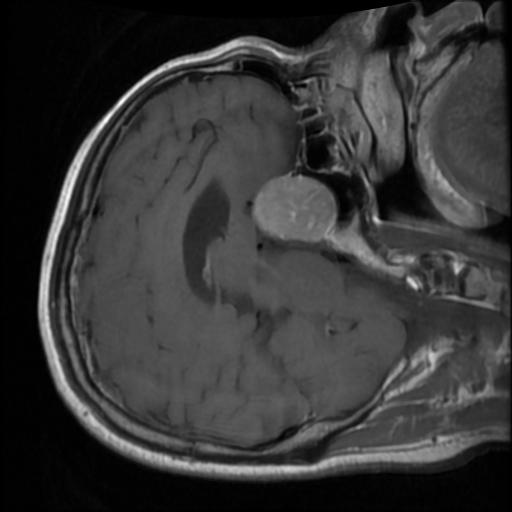pituitary tumour: (250, 176, 336, 241)
